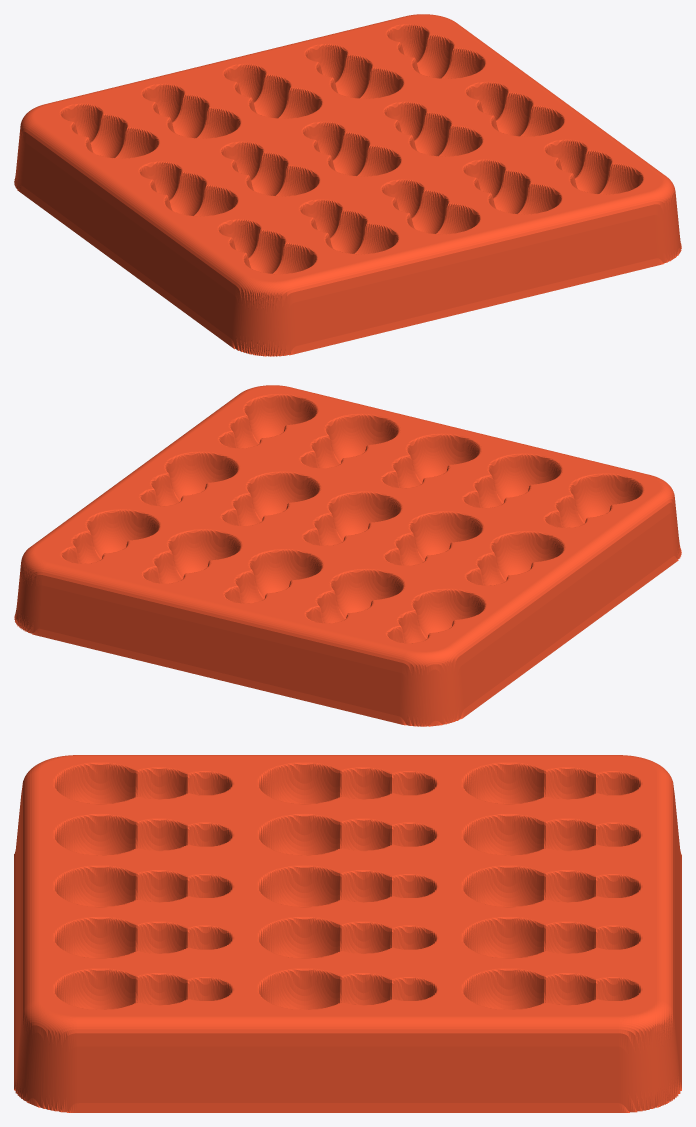
Rendered from mold.glb.
3 views of the same model, one above another, from view 1: azimuth 30°, elevation 25°; view 2: azimuth 150°, elevation 25°; view 3: azimuth 270°, elevation 25° (orthographic). The views are drawn at different scales.
Visible parts, largest first — view 1: geometry_0; view 2: geometry_0; view 3: geometry_0.
Boxes of the visible parts, box(x1,y1,x2,y2) form: geometry_0: box(14, 14, 681, 356); geometry_0: box(14, 385, 681, 726); geometry_0: box(14, 755, 681, 1112).
Size of the model in its own units: 0.0953 by 0.0136 by 0.0958.
